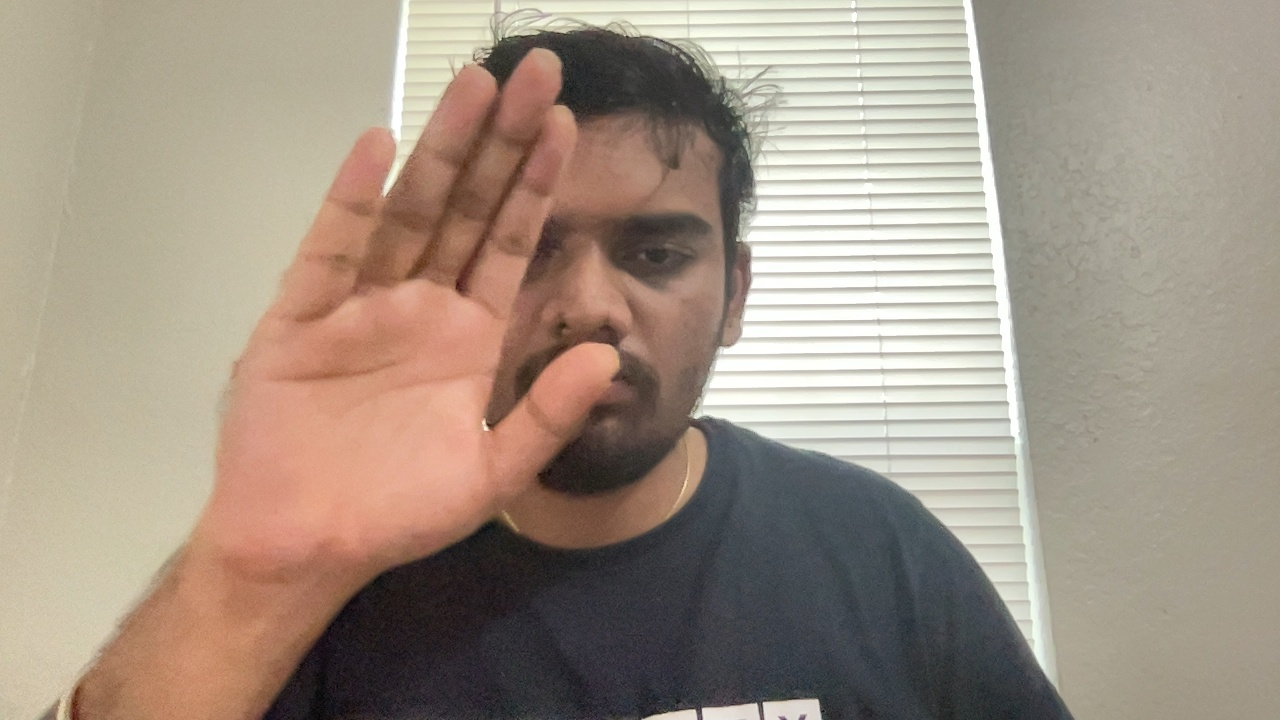hello: (180, 51, 618, 563)
